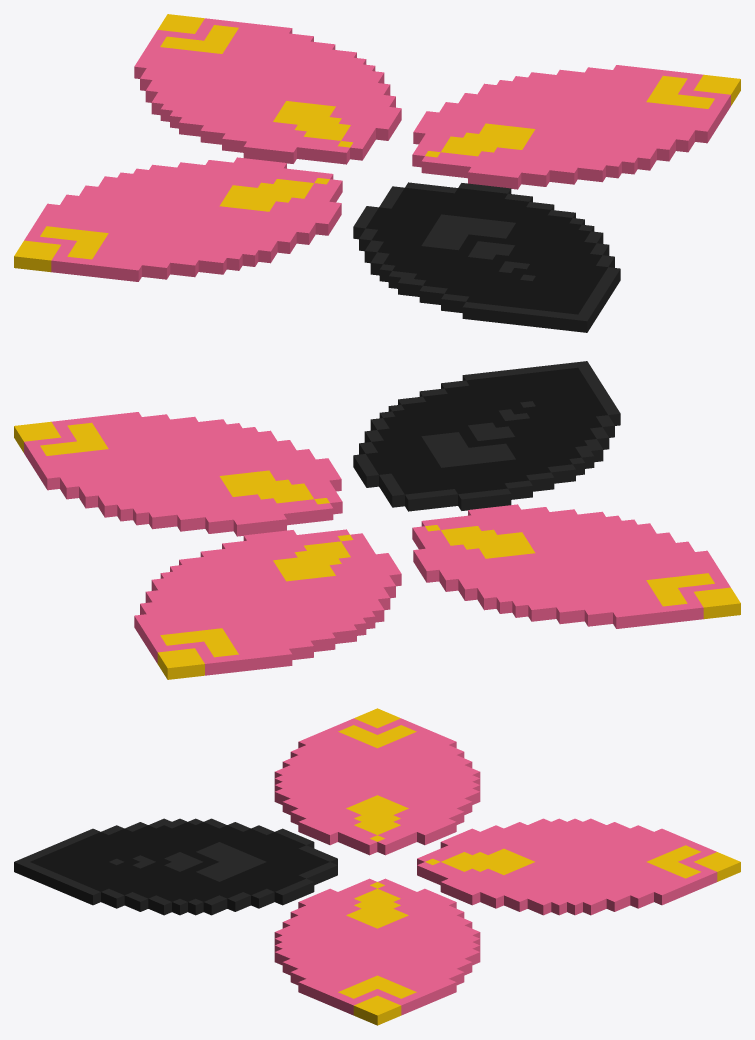
Rendered from TrapAspasPinkGrand.FBX.
3 renders of one model, top to bottom at view 1: azimuth 30°, elevation 25°; view 2: azimuth 150°, elevation 25°; view 3: azimuth 270°, elevation 25°, orthographic. The views are drawn at different scales.
Parts seen in each view (by area): view 1: TrapAspasPinkGrand; view 2: TrapAspasPinkGrand; view 3: TrapAspasPinkGrand.
Part boxes in pixels (x1,y1,x2,y2): TrapAspasPinkGrand: (14, 14, 740, 332); TrapAspasPinkGrand: (14, 361, 740, 679); TrapAspasPinkGrand: (14, 708, 740, 1025).
Size of the model in its own units: 1.41 by 0.0217 by 1.41.
1 material, 1 textured.
